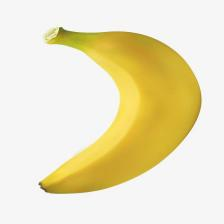yellow: (39, 26, 201, 194)
